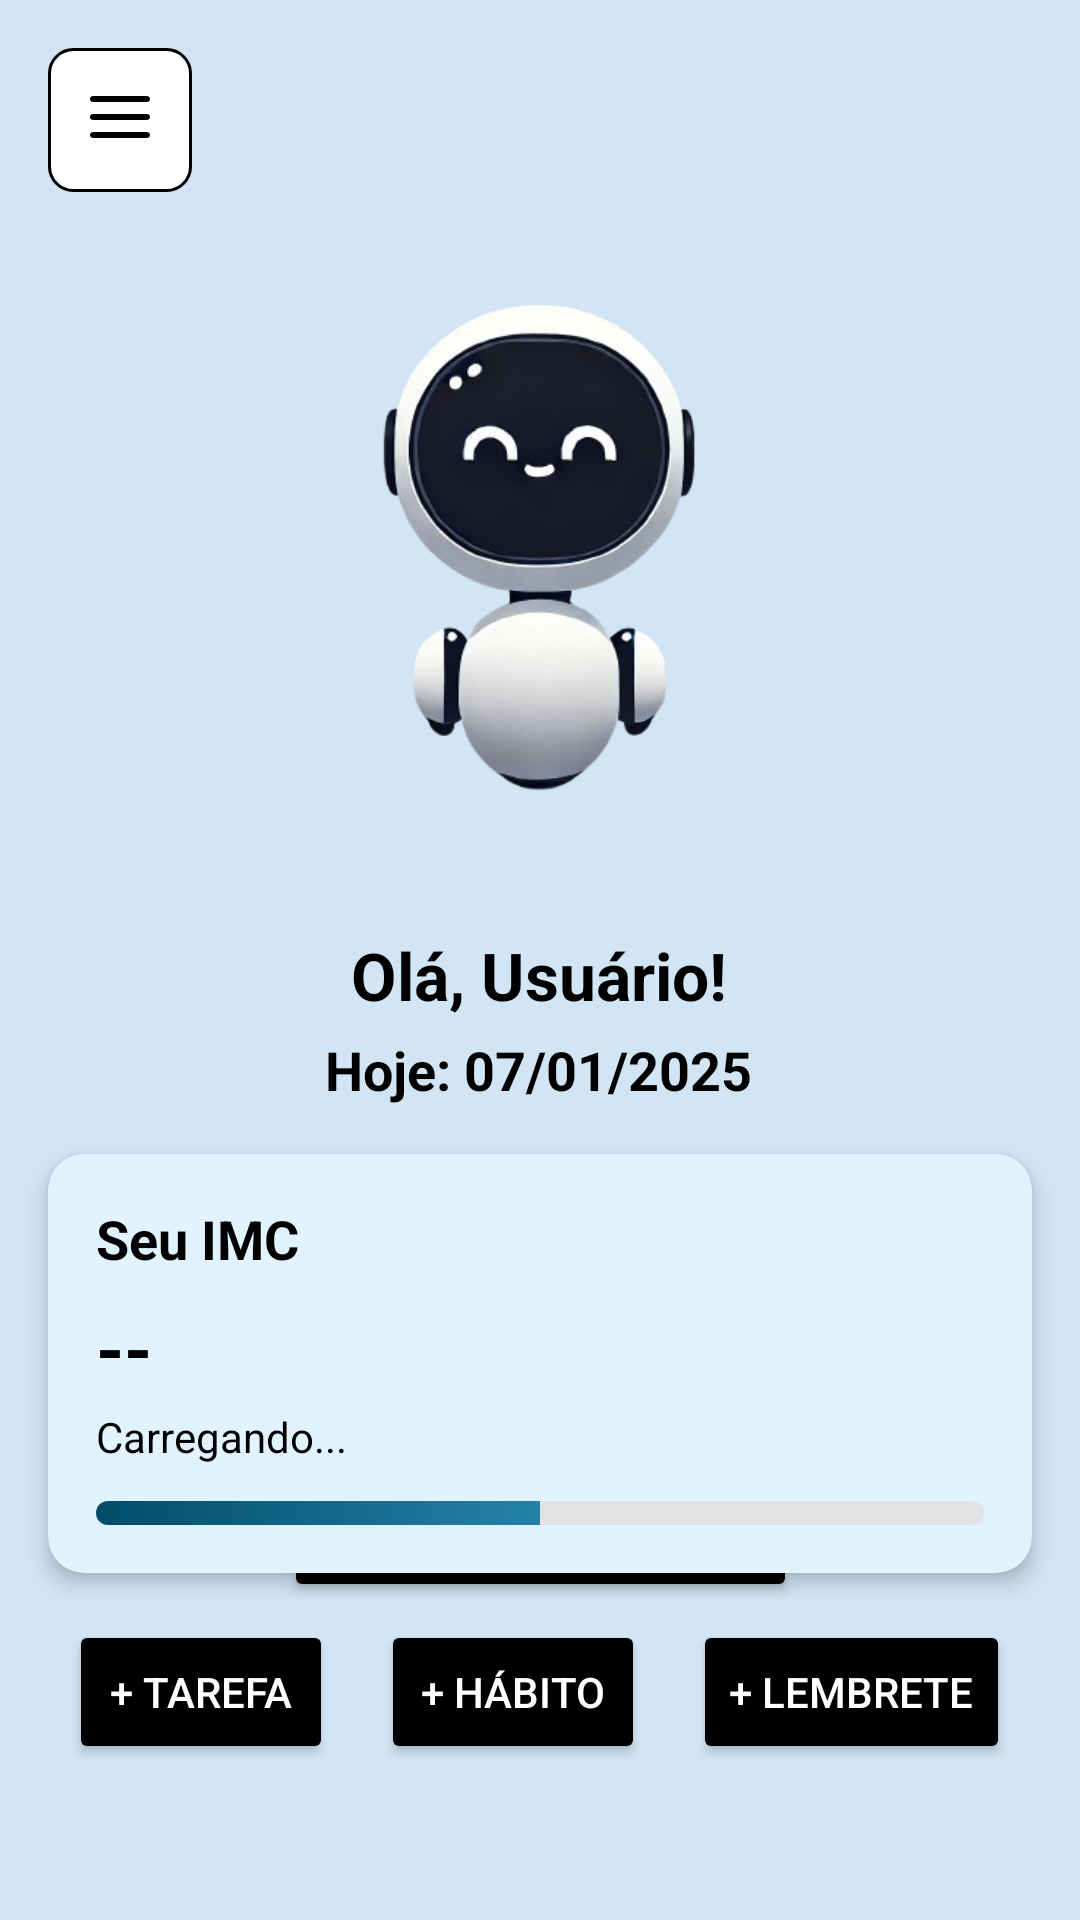

Icon bounding boxes for this 1080px x 1920px phone screenshot, format rect(x1, y1, x2, y2):
Menu: rect(48, 48, 192, 192)
